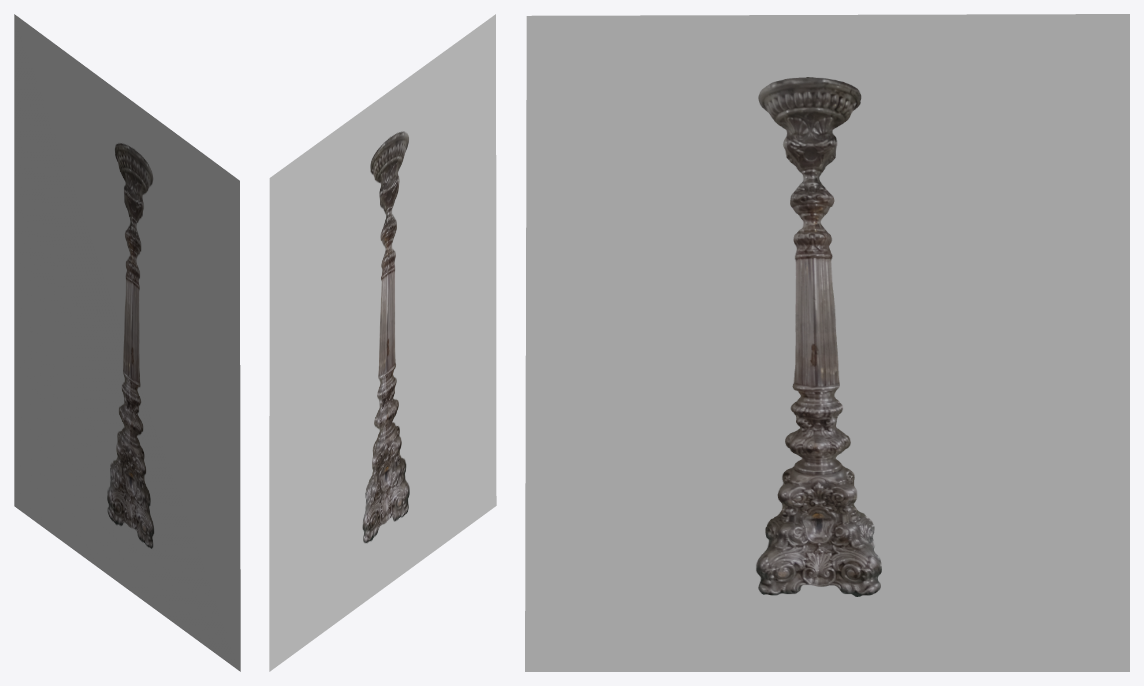
File: 50-52. Świecznik ołtarzowy.glb
The picture shows the model from 3 angles, left to right: view 1: azimuth 30°, elevation 25°; view 2: azimuth 150°, elevation 25°; view 3: azimuth 270°, elevation 25°; orthographic projection. The views are drawn at different scales.
Parts seen in each view (by area): view 1: Plane; view 2: Plane; view 3: Plane.
Boxes of the visible parts, <box> form: Plane: <box>14,14,240,671</box>; Plane: <box>269,14,496,671</box>; Plane: <box>525,14,1129,671</box>.
Bounding box in the file's own units: 0.00822 × 24 × 20.
1 material, 1 textured.
